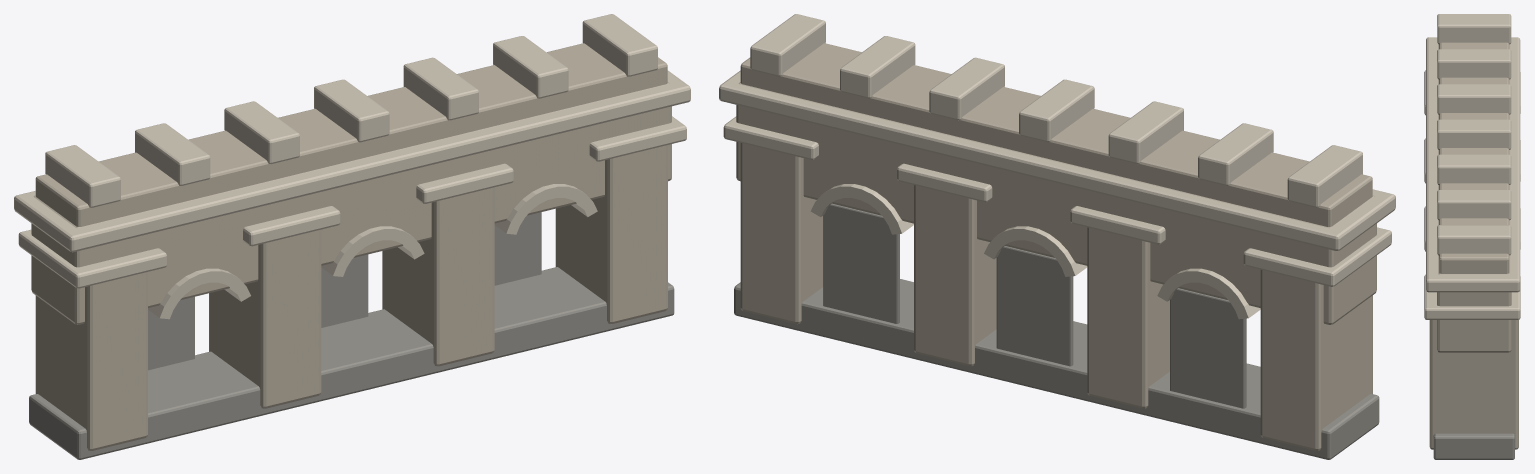
The model's file is LowerArcadedFront.glb.
The picture shows the model from 3 angles, left to right: view 1: azimuth 30°, elevation 25°; view 2: azimuth 150°, elevation 25°; view 3: azimuth 270°, elevation 25°; orthographic projection. The views are drawn at different scales.
Parts seen in each view (by area): view 1: Lower Arcaded Front upper spandrel, Lower Arcaded Front foundation, Lower Arcaded Front parapet, Lower Arcaded Front cornice, Lower Arcaded Front buttress 0, Lower Arcaded Front buttress 1, Lower Arcaded Front buttress 2, Lower Arcaded Front buttress 3, Lower Arcaded Front buttress cap 0, Lower Arcaded Front parapet merlon 2, Lower Arcaded Front parapet merlon 3, Lower Arcaded Front parapet merlon 4 (+10 smaller); view 2: Lower Arcaded Front upper spandrel, Lower Arcaded Front parapet, Lower Arcaded Front foundation, Lower Arcaded Front buttress 0, Lower Arcaded Front cornice, Lower Arcaded Front buttress 3, Lower Arcaded Front buttress 1, Lower Arcaded Front buttress 2, Lower Arcaded Front recessed shadow 1, Lower Arcaded Front recessed shadow 2, Lower Arcaded Front recessed shadow 0, Lower Arcaded Front parapet merlon 6 (+10 smaller); view 3: Lower Arcaded Front buttress 3, Lower Arcaded Front cornice, Lower Arcaded Front parapet, Lower Arcaded Front upper spandrel, Lower Arcaded Front parapet merlon 4, Lower Arcaded Front foundation, Lower Arcaded Front parapet merlon 3, Lower Arcaded Front parapet merlon 1, Lower Arcaded Front parapet merlon 2, Lower Arcaded Front parapet merlon 6, Lower Arcaded Front parapet merlon 0, Lower Arcaded Front parapet merlon 5 (+4 smaller).
Boxes of the visible parts, x1,y1,x2,y2 form: Lower Arcaded Front upper spandrel: (31, 82, 671, 324); Lower Arcaded Front foundation: (29, 267, 674, 459); Lower Arcaded Front parapet: (35, 43, 667, 226); Lower Arcaded Front cornice: (14, 70, 690, 252); Lower Arcaded Front buttress 0: (35, 272, 147, 450); Lower Arcaded Front buttress 1: (209, 229, 321, 408); Lower Arcaded Front buttress 2: (382, 187, 494, 366); Lower Arcaded Front buttress 3: (555, 145, 667, 324); Lower Arcaded Front buttress cap 0: (18, 229, 166, 288); Lower Arcaded Front parapet merlon 2: (224, 101, 299, 164); Lower Arcaded Front parapet merlon 3: (314, 79, 389, 142); Lower Arcaded Front parapet merlon 4: (403, 57, 478, 120); Lower Arcaded Front upper spandrel: (736, 82, 1376, 324); Lower Arcaded Front parapet: (740, 43, 1372, 226); Lower Arcaded Front foundation: (734, 279, 1379, 459); Lower Arcaded Front buttress 0: (1260, 270, 1372, 450); Lower Arcaded Front cornice: (719, 70, 1395, 251); Lower Arcaded Front buttress 3: (740, 143, 823, 324); Lower Arcaded Front buttress 1: (1087, 227, 1169, 408); Lower Arcaded Front buttress 2: (914, 185, 996, 366); Lower Arcaded Front recessed shadow 1: (996, 246, 1073, 366); Lower Arcaded Front recessed shadow 2: (823, 203, 899, 323); Lower Arcaded Front recessed shadow 0: (1170, 288, 1246, 408); Lower Arcaded Front parapet merlon 6: (750, 14, 825, 76); Lower Arcaded Front buttress 3: (1429, 320, 1518, 449); Lower Arcaded Front cornice: (1426, 37, 1520, 292); Lower Arcaded Front parapet: (1439, 42, 1509, 273); Lower Arcaded Front upper spandrel: (1437, 44, 1511, 352); Lower Arcaded Front parapet merlon 4: (1437, 154, 1511, 184); Lower Arcaded Front foundation: (1433, 433, 1514, 459); Lower Arcaded Front parapet merlon 3: (1437, 119, 1511, 149); Lower Arcaded Front parapet merlon 1: (1437, 49, 1511, 79); Lower Arcaded Front parapet merlon 2: (1437, 84, 1511, 114); Lower Arcaded Front parapet merlon 6: (1437, 225, 1511, 255); Lower Arcaded Front parapet merlon 0: (1437, 14, 1511, 44); Lower Arcaded Front parapet merlon 5: (1437, 190, 1511, 220).
Bounding box in the file's own units: 9.57 × 4 × 1.59.
